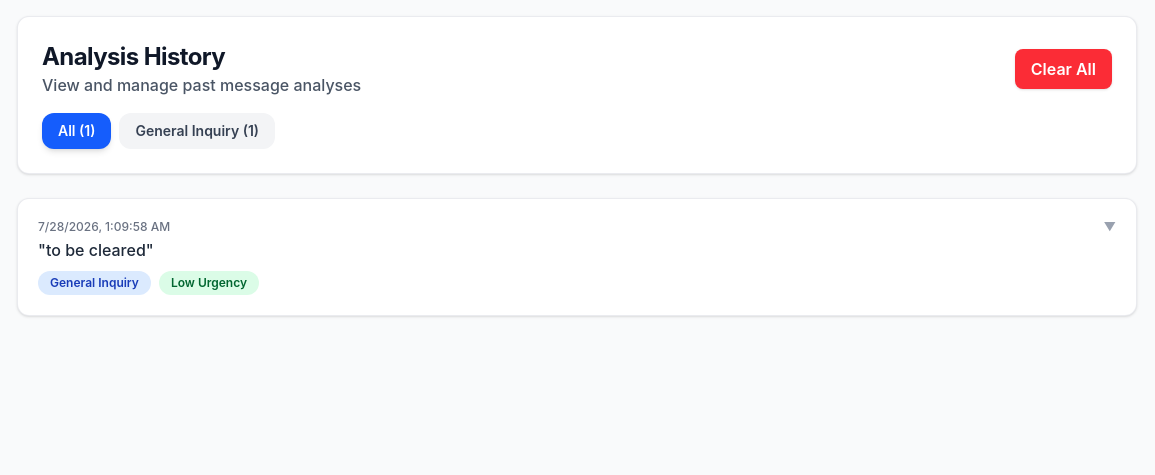
Test case: HistoryPage › clears all history after confirmation
Click the button "Clear All": (1063, 69) x1=1015 y1=49 x2=1112 y2=89
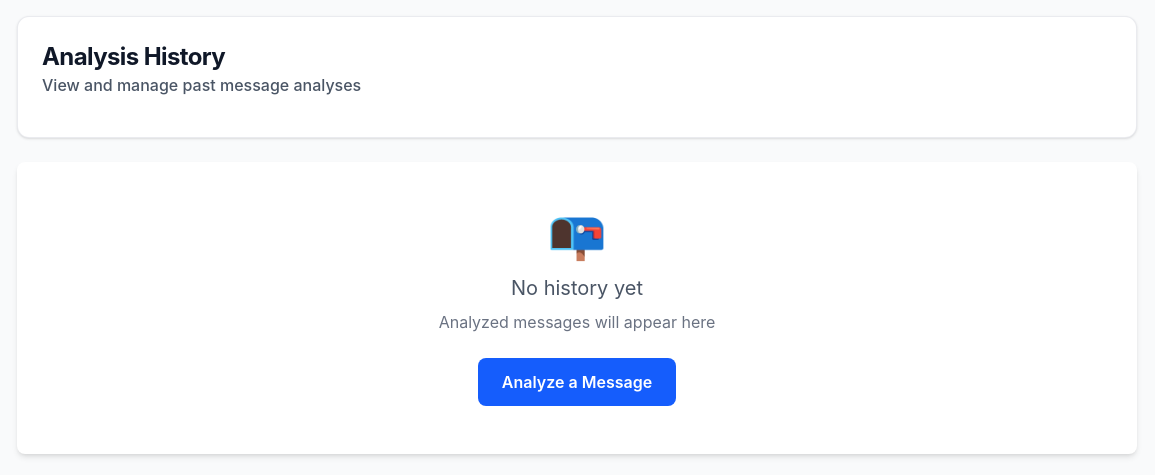
Check: the text "No history yet" is shown, box x1=511 y1=276 x2=643 y2=300
